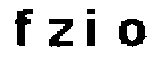f: (11, 6, 36, 54)
i: (81, 2, 101, 54)
o: (116, 12, 149, 51)
z: (43, 17, 76, 51)
